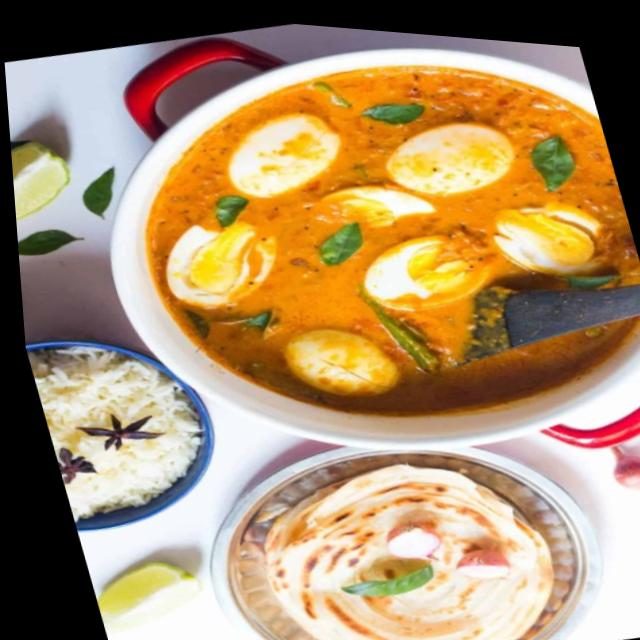EGG: (111, 50, 640, 440)
PAROTTA: (263, 463, 551, 640)
RICE: (26, 345, 210, 528)
